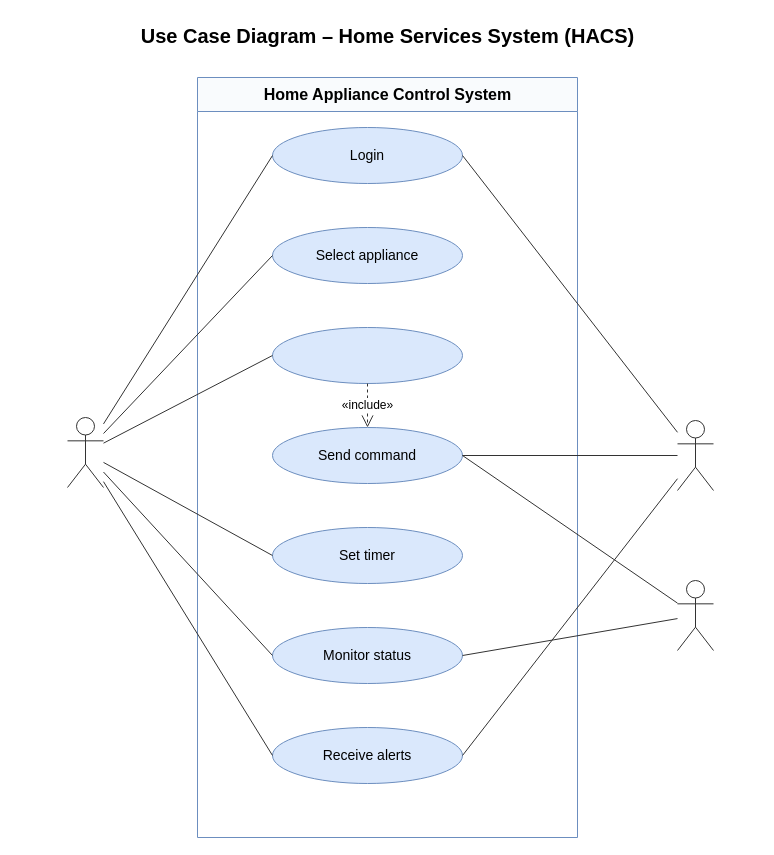
Some shapes in this 774 by 855 pixel diagram are drawn without their labels. Each missing label, with the centre of its shape:
"HACS Controller" belongs at pixel 695 455.
"Home Appliance" belongs at pixel 695 615.
"Switch ON / OFF" belongs at pixel 367 355.
"User" belongs at pixel 85 452.
